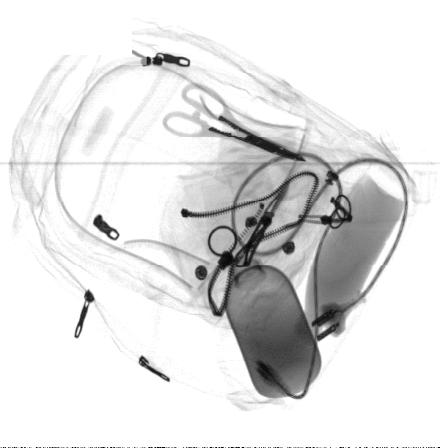Knife: (234, 176, 292, 266)
Scissors: (163, 83, 307, 161)
